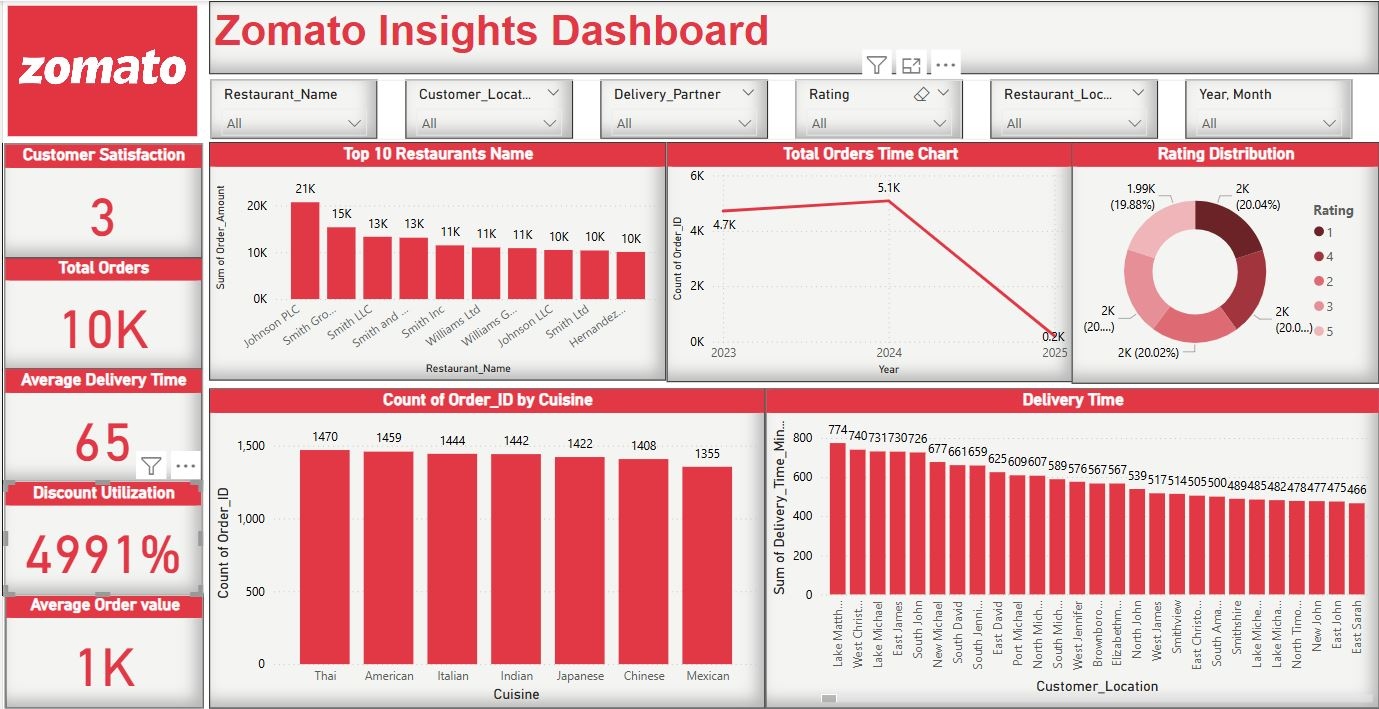

This screenshot's page, from the dashboard's own definition file:
{"tool":"powerbi","page":{"name":"Zomato Insights Dashboard","canvas":[1400,720],"ordinal":1},"visuals":[{"type":"textbox","box":[209.5,0,1190.7,74.1],"z":0},{"type":"card","title":"Total Orders","fields":{"Values":["Count(Sheet1.Order_ID)"]},"box":[0,259.4,201.5,117],"z":0,"group":"g4"},{"type":"image","box":[0,0,202.2,142.4],"z":1000},{"type":"card","title":"Average Delivery Time","fields":{"Values":["Avg(Sheet1.Delivery_Time_Minutes)"]},"box":[0,374,201.5,117],"z":1000,"group":"g4"},{"type":"group","id":"g1","title":"Group 1","box":[210.8,80.5,1161.3,60],"z":2000},{"type":"card","title":"Average Order value","fields":{"Values":["Avg(Sheet1.Order_Amount)"]},"box":[1.2,603,201.5,117],"z":2000,"group":"g4"},{"type":"group","id":"g2","title":"Group 2","box":[210.1,143.9,1190.6,245.4],"z":3000},{"type":"card","title":"Customer Satisfaction","fields":{"Values":["Avg(Sheet1.Rating)"]},"box":[0,144.8,201.5,117],"z":3000,"group":"g4"},{"type":"group","id":"g3","title":"Group 3","box":[209.5,394.2,1190.7,325.8],"z":4000},{"type":"card","title":"Discount Utilization","fields":{"Values":["Sheet1.Discount Utilisation (%)"]},"box":[0,488.6,201.5,117],"z":4000,"group":"g4"},{"type":"lineChart","title":"Total Orders Time Chart","fields":{"Category":["Sheet1.Order_Date.Variation.Date Hierarchy.Year"],"Y":["CountNonNull(Sheet1.Order_ID)"]},"box":[675,144,413.9,244],"z":5000,"group":"g2"},{"type":"group","id":"g4","title":"Group 4","box":[0,144.8,202.7,575.2],"z":5000},{"type":"columnChart","title":"Delivery Time","fields":{"Category":["Sheet1.Customer_Location"],"Y":["Sum(Sheet1.Delivery_Time_Minutes)"]},"box":[775.5,394.2,624.8,325.8],"z":5000,"group":"g3"},{"type":"columnChart","fields":{"Category":["Sheet1.Cuisine"],"Y":["CountNonNull(Sheet1.Order_ID)"]},"box":[209.5,394.2,566,325.8],"z":6000,"group":"g3"},{"type":"columnChart","title":"Top 10 Restaurants Name","fields":{"Category":["Sheet1.Restaurant_Name"],"Y":["Sum(Sheet1.Order_Amount)"]},"box":[210.1,143.9,465,242.7],"z":7000,"group":"g2"},{"type":"donutChart","title":"Rating Distribution","fields":{"Y":["CountNonNull(Sheet1.Order_ID)"],"Category":["Sheet1.Rating"]},"box":[1087.6,144,313,245.3],"z":8000,"group":"g2"},{"type":"slicer","fields":{"Values":["Sheet1.Restaurant_Name"]},"box":[210.8,80.5,169.9,60],"z":12000,"group":"g1"},{"type":"slicer","fields":{"Values":["Sheet1.Delivery_Partner"]},"box":[607.3,80.5,170,60],"z":13000,"group":"g1"},{"type":"slicer","fields":{"Values":["Sheet1.Customer_Location"]},"box":[409,80.5,170,60],"z":14000,"group":"g1"},{"type":"slicer","fields":{"Values":["Sheet1.Rating"]},"box":[805.6,80.5,170,60],"z":15000,"group":"g1"},{"type":"slicer","fields":{"Values":["Sheet1.Restaurant_Location"]},"box":[1003.9,80.5,170,60],"z":16000,"group":"g1"},{"type":"slicer","fields":{"Values":["Sheet1.Order_Date.Variation.Date Hierarchy.Year","Sheet1.Order_Date.Variation.Date Hierarchy.Month"]},"box":[1202.2,80.5,169.9,60],"z":17000,"group":"g1"}]}

Visuals, with their boxes in screenshot pixels (x1, y1, x2, y2), scaled from the page's 1400x720 canvas onto the 1379x709 screenshot:
textbox: left=206, top=0, right=1378, bottom=73
"Total Orders" card: left=0, top=255, right=198, bottom=371
image: left=0, top=0, right=199, bottom=140
"Average Delivery Time" card: left=0, top=368, right=198, bottom=483
"Group 1" group: left=208, top=79, right=1352, bottom=138
"Average Order value" card: left=1, top=594, right=200, bottom=708
"Group 2" group: left=207, top=142, right=1378, bottom=383
"Customer Satisfaction" card: left=0, top=143, right=198, bottom=258
"Group 3" group: left=206, top=388, right=1378, bottom=708
"Discount Utilization" card: left=0, top=481, right=198, bottom=596
"Total Orders Time Chart" lineChart: left=665, top=142, right=1073, bottom=382
"Group 4" group: left=0, top=143, right=200, bottom=708
"Delivery Time" columnChart: left=764, top=388, right=1378, bottom=708
columnChart - Sheet1.Cuisine x CountNonNull(Sheet1.Order_ID): left=206, top=388, right=764, bottom=708
"Top 10 Restaurants Name" columnChart: left=207, top=142, right=665, bottom=381
"Rating Distribution" donutChart: left=1071, top=142, right=1378, bottom=383
slicer - Sheet1.Restaurant_Name: left=208, top=79, right=375, bottom=138
slicer - Sheet1.Delivery_Partner: left=598, top=79, right=766, bottom=138
slicer - Sheet1.Customer_Location: left=403, top=79, right=570, bottom=138
slicer - Sheet1.Rating: left=794, top=79, right=961, bottom=138
slicer - Sheet1.Restaurant_Location: left=989, top=79, right=1156, bottom=138
slicer - Sheet1.Order_Date.Variation.Date Hierarchy.Year x Sheet1.Order_Date.Variation.Date Hierarchy.Month: left=1184, top=79, right=1352, bottom=138
